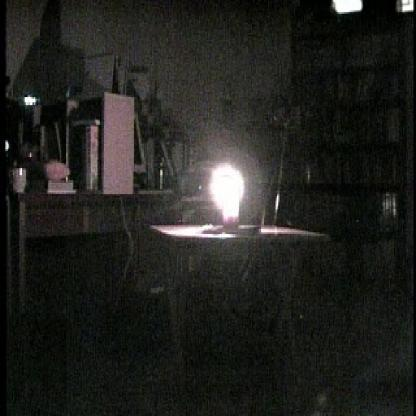fire: (195, 144, 254, 241)
